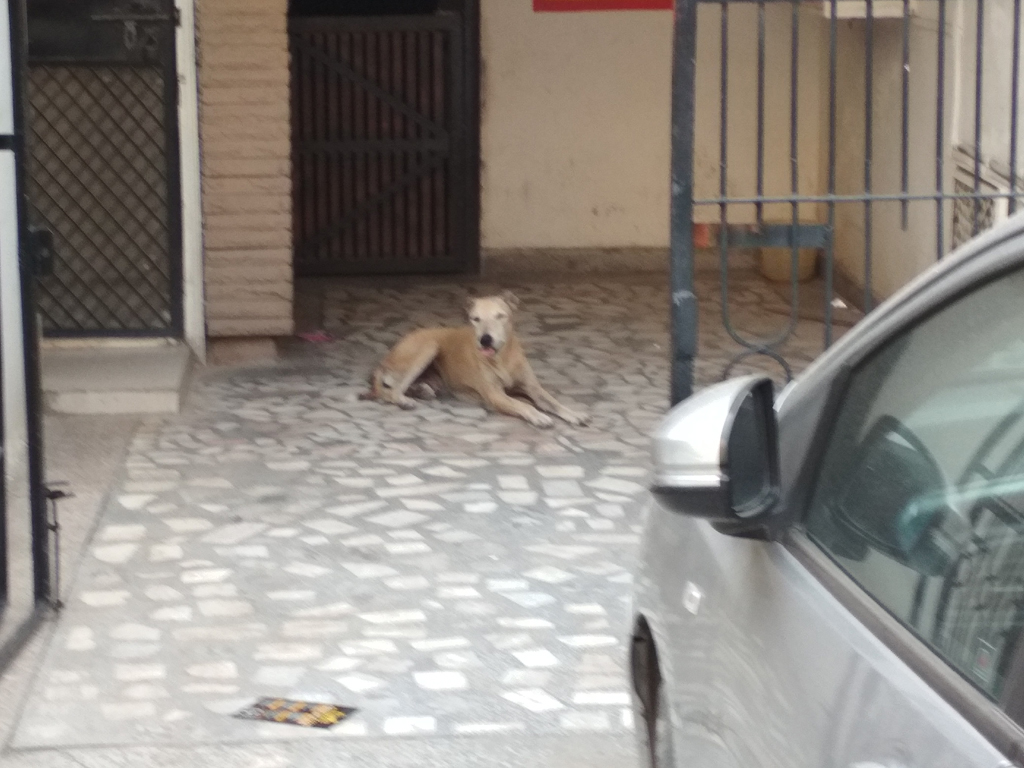dog: (359, 290, 587, 429)
